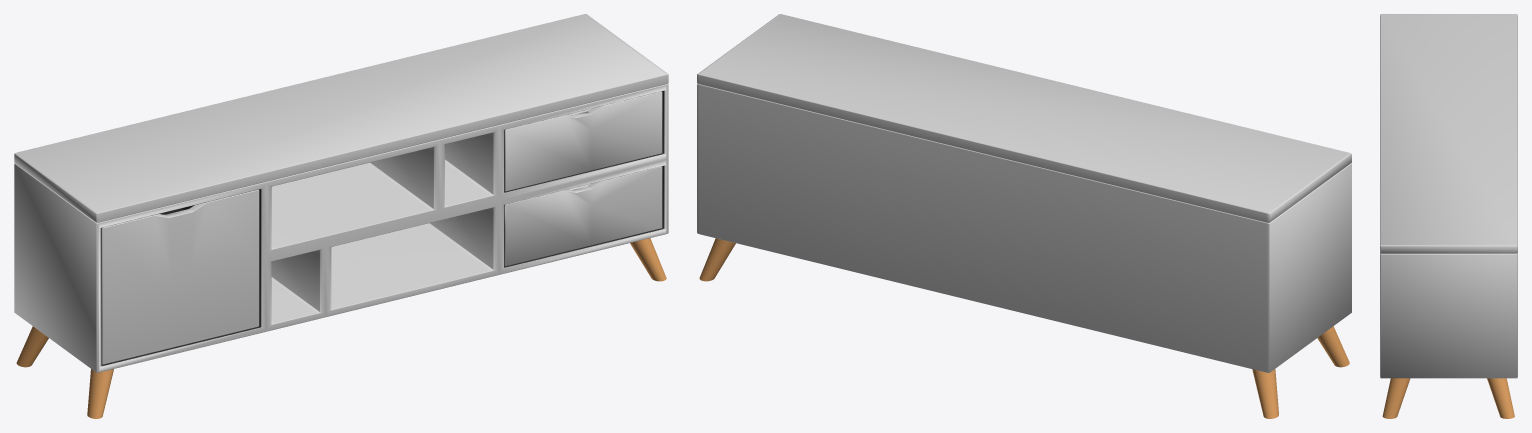
The model's file is tv_unit_solid_wood_cabinet_2_deimonic93.glb.
3 renders of one model, left to right at view 1: azimuth 30°, elevation 25°; view 2: azimuth 150°, elevation 25°; view 3: azimuth 270°, elevation 25°, orthographic. The views are drawn at different scales.
Visible parts, largest first — view 1: CABINET_WHITE_0, LEG_CREAM_0, CABINET_BLACK_0; view 2: CABINET_WHITE_0, LEG_CREAM_0; view 3: CABINET_WHITE_0, LEG_CREAM_0.
Part boxes in pixels (bbox=[...]): CABINET_WHITE_0: bbox=[14, 14, 668, 372]; LEG_CREAM_0: bbox=[16, 238, 666, 418]; CABINET_BLACK_0: bbox=[101, 91, 664, 365]; CABINET_WHITE_0: bbox=[697, 14, 1351, 372]; LEG_CREAM_0: bbox=[699, 238, 1349, 418]; CABINET_WHITE_0: bbox=[1380, 14, 1517, 378]; LEG_CREAM_0: bbox=[1382, 378, 1514, 418].
Size of the model in its own units: 2.12 by 0.7268 by 0.5263.
